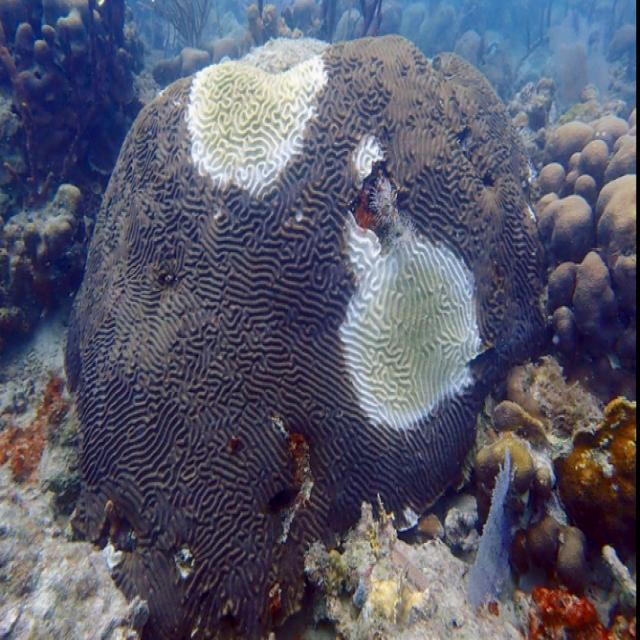Coral: (65, 32, 546, 638)
